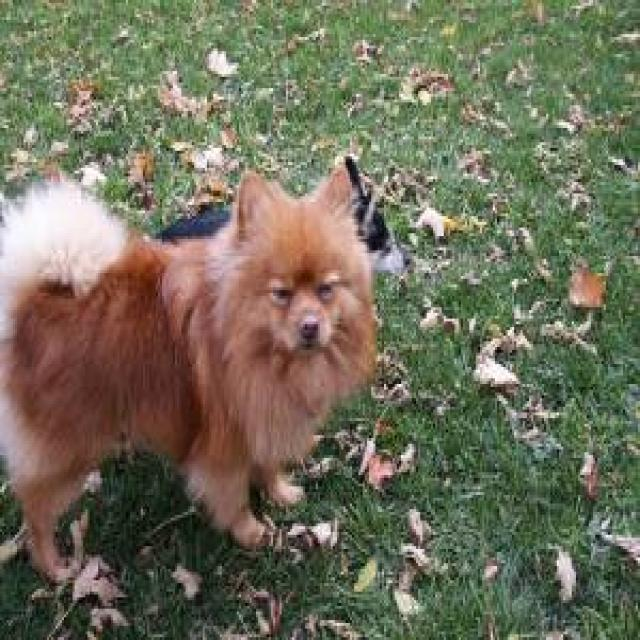dog-pomeranian: (2, 156, 380, 575)
